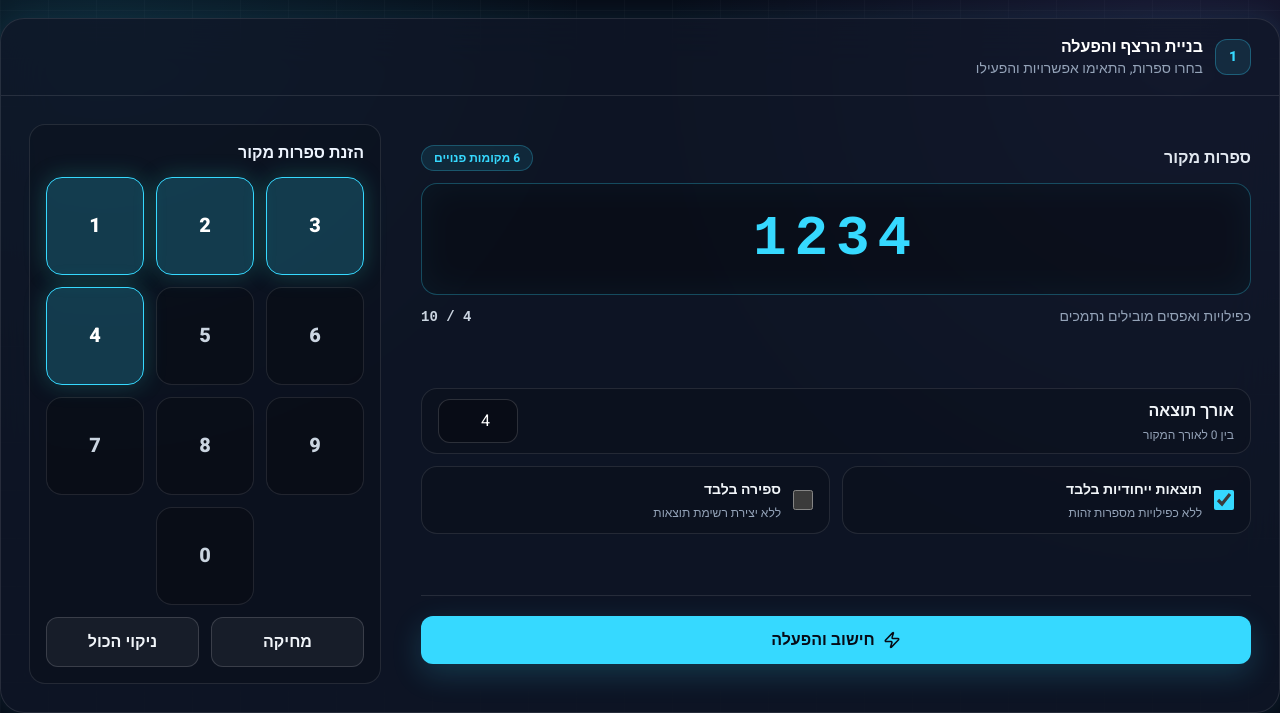
PermutationPanel › allows an empty source while editing and rejects generation
(page scrolled)
What coordinates should you click on to do the following:
click the button with aria-label "ניקוי כל הספרות"
I would click on:
 (122, 642)
Its box is [46, 617, 199, 667].
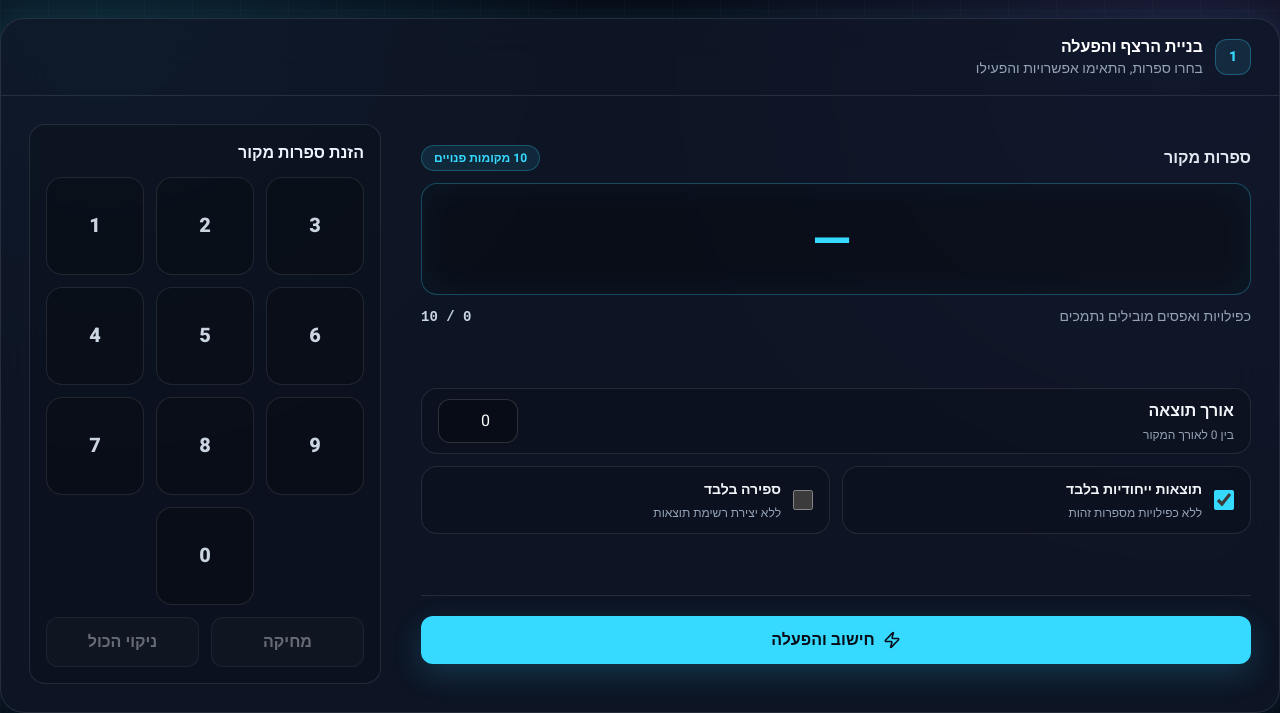
What coordinates should you click on to do the following:
click the button "חישוב והפעלה"
I would click on:
 (836, 640)
Its box is [421, 616, 1251, 664].
(page scrolled)
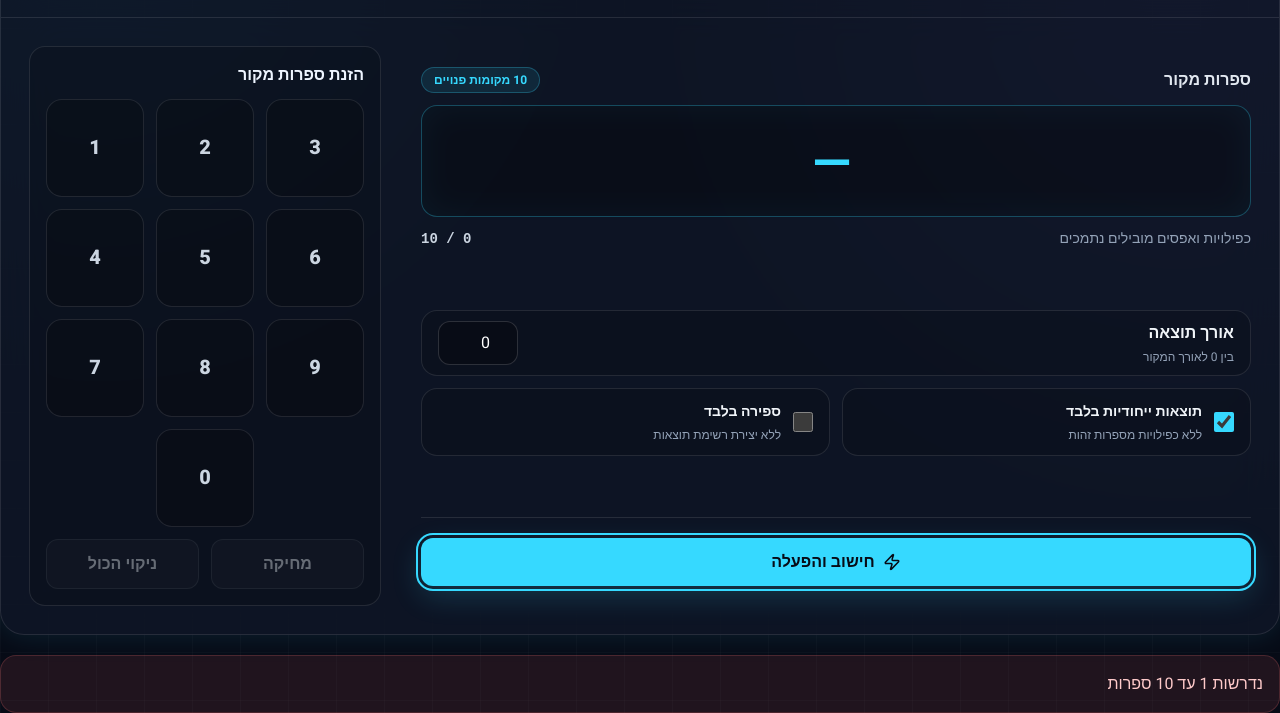
Expected: the message reads "נדרשות 1 עד 10 ספרות", [1108, 672, 1263, 696]
